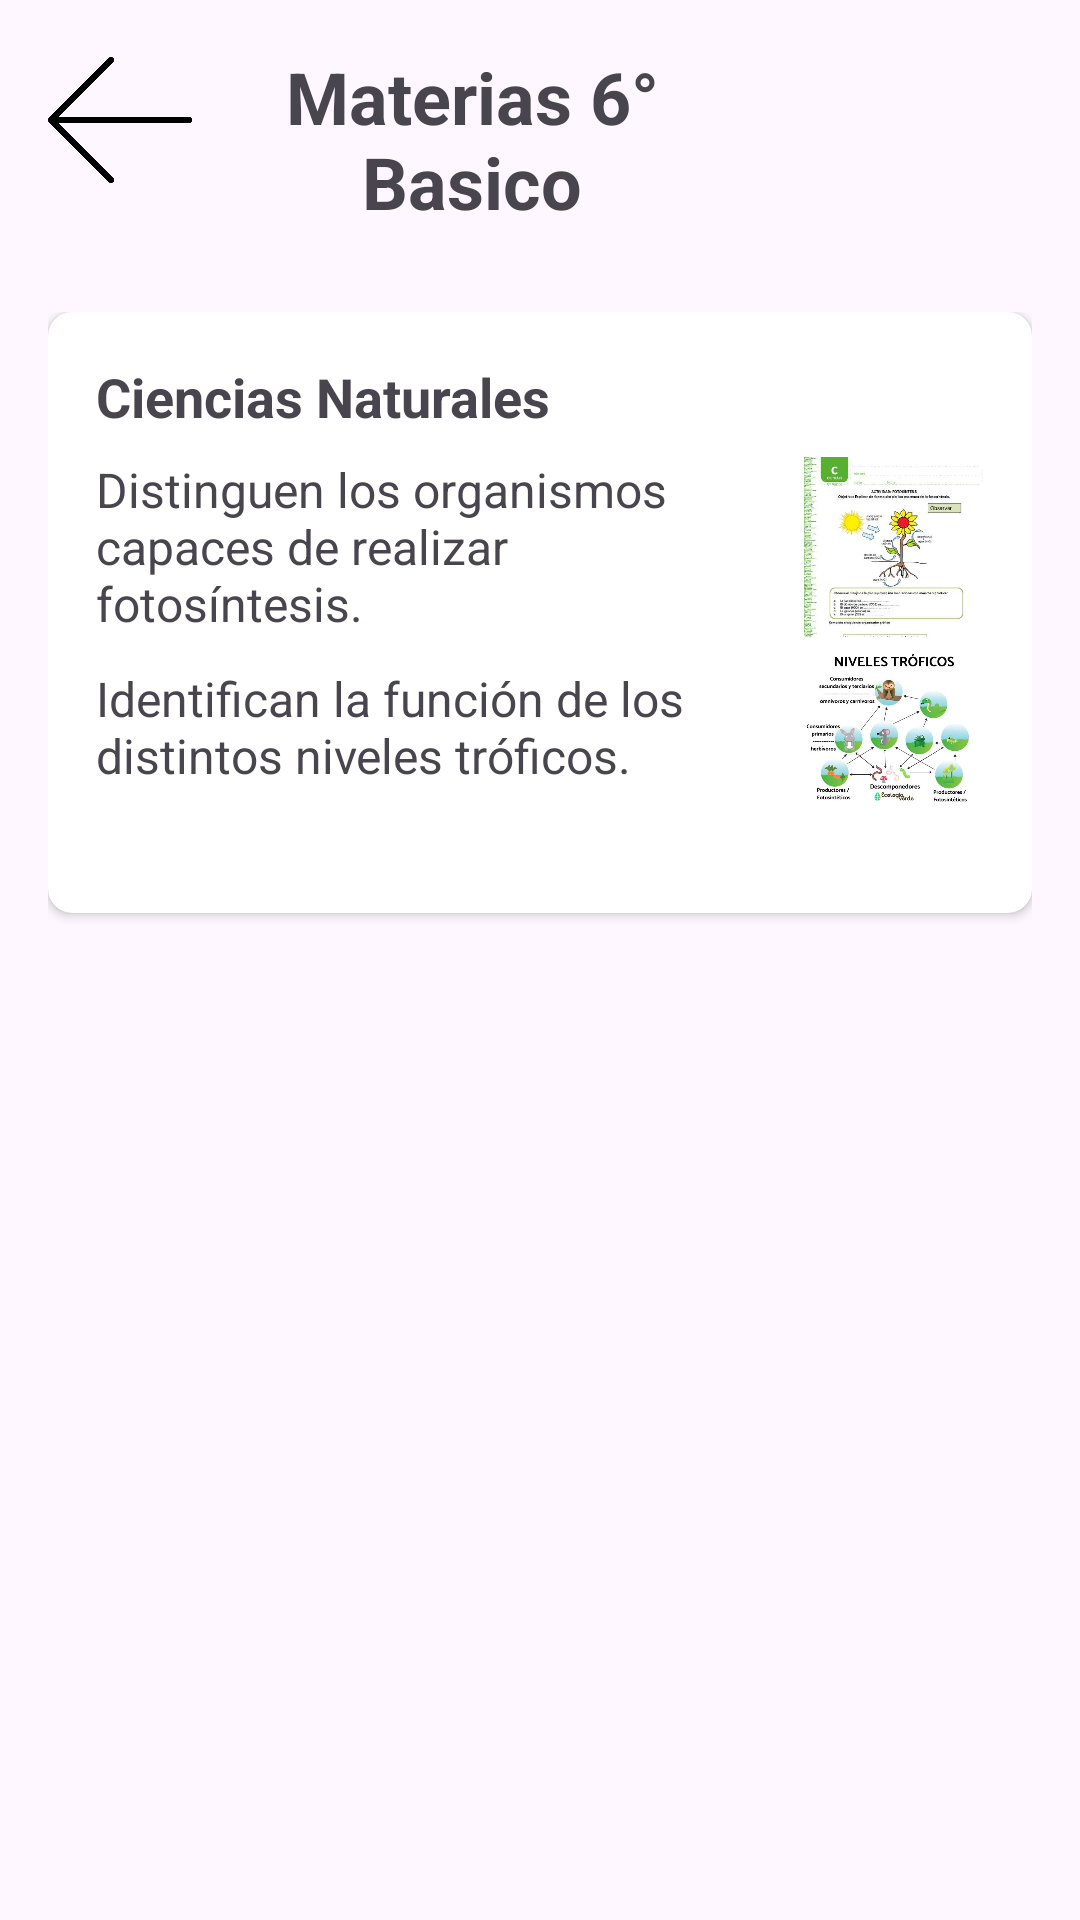

Icons on this 1080x1920 Android screen, each with its box as (x1, y1, x2, y2):
Botón de volver: (48, 57, 192, 183)
